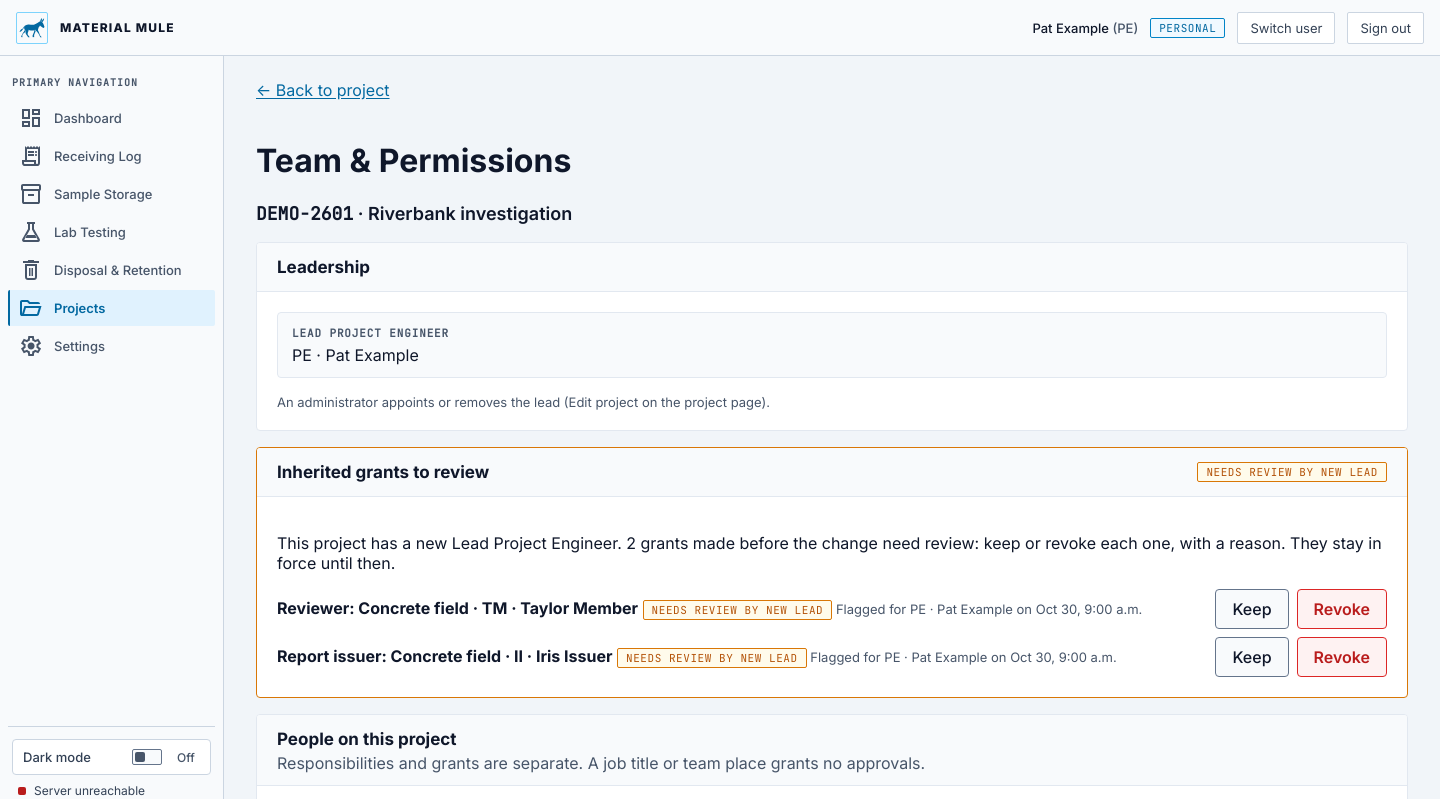
Scenario: Team & Permissions (MM-AO05) › MTR-25: revoking an inherited reviewer or issuer grant updates every list without a reload
The width and height of the screenshot is (1440, 799).
Step 1. Click the button with aria-label "Revoke Reviewer: Concrete field · TM · Taylor Member" → (1342, 609), box x1=1296 y1=589 x2=1387 y2=629
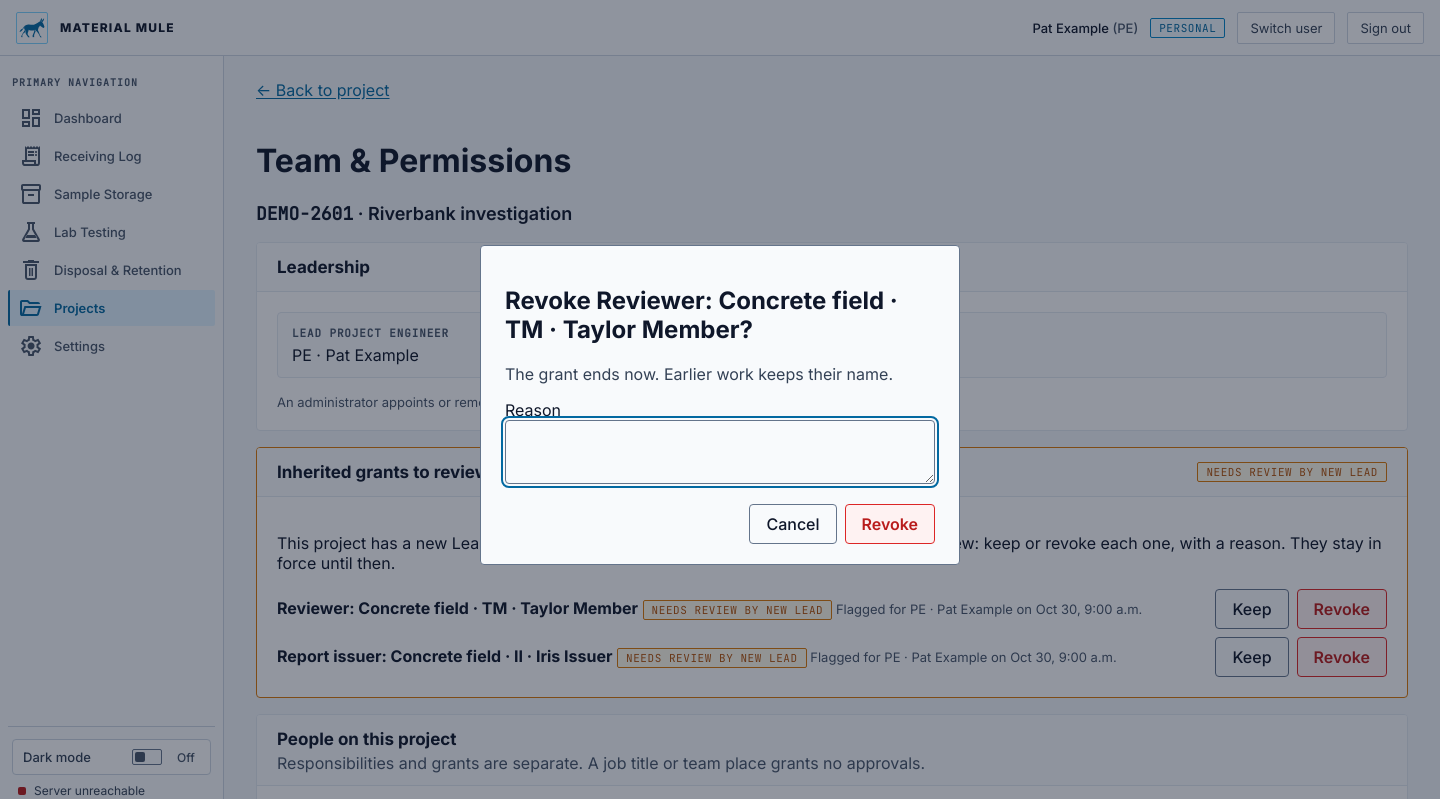
Step 2. Type "No longer needed" into the text box labelled "Reason" → (720, 452), box x1=505 y1=420 x2=935 y2=484
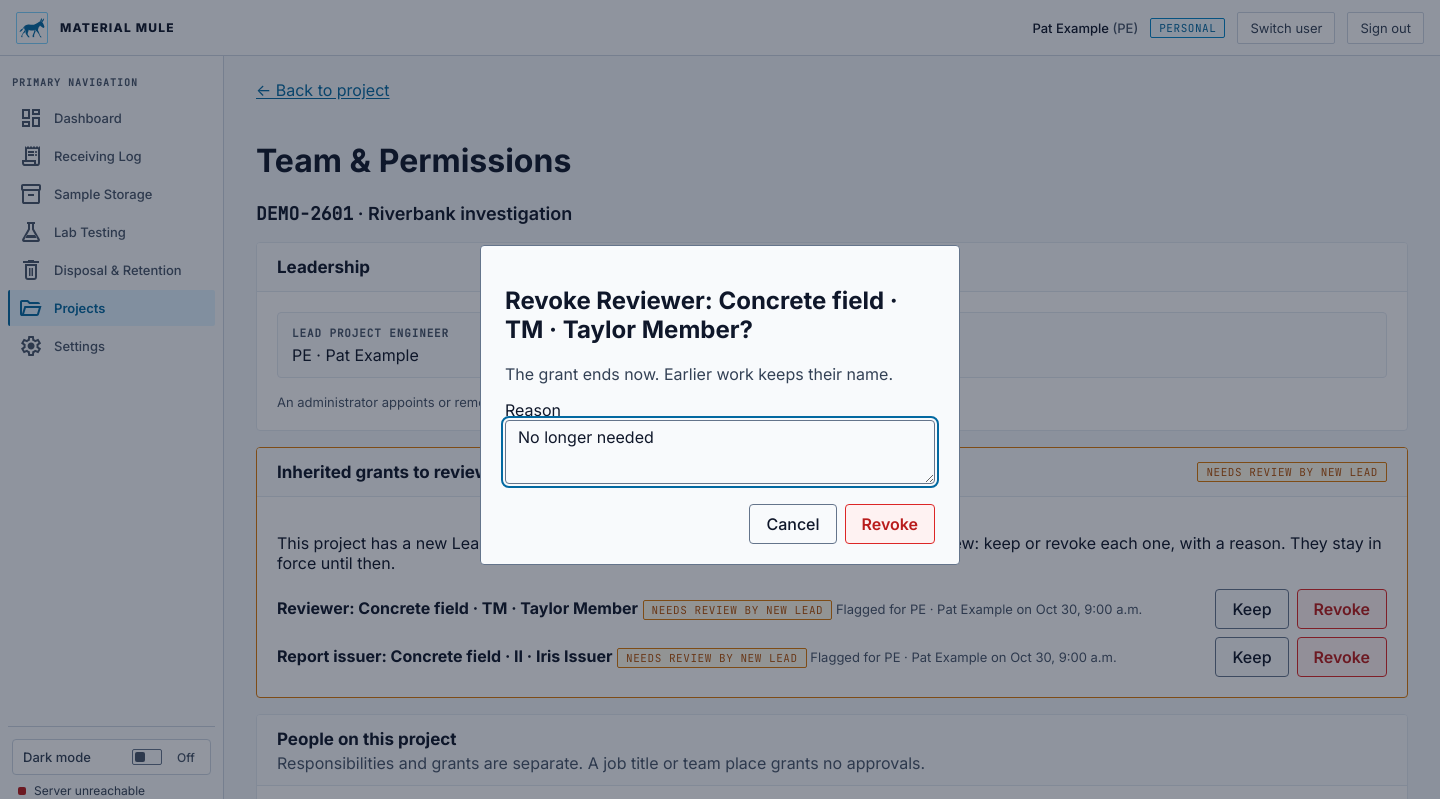
Step 3. Click the button "Revoke" → (890, 524), box x1=844 y1=504 x2=935 y2=544
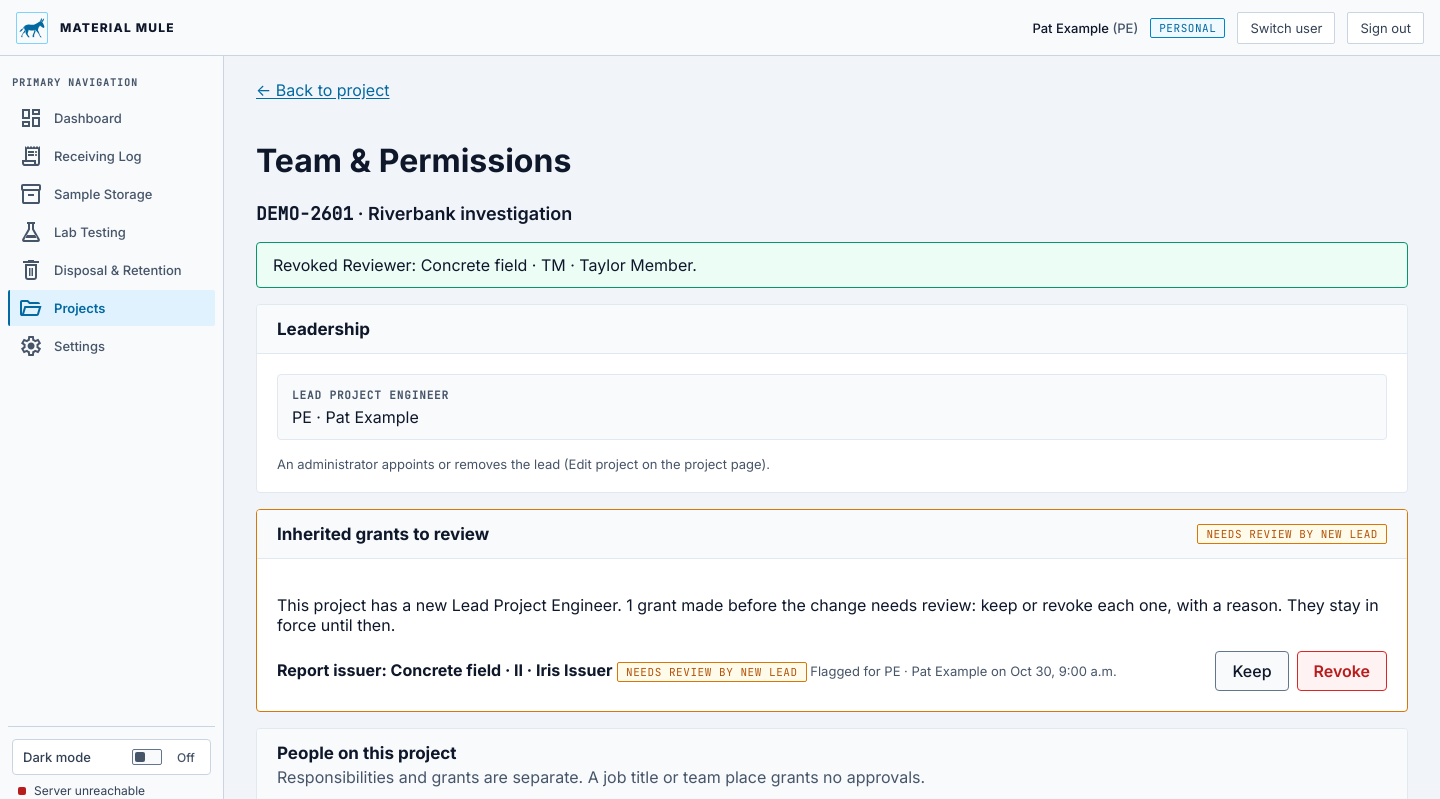
Expected: the text "Revoked Reviewer: Concrete field · TM · Taylor Member." is shown, x1=256 y1=242 x2=1408 y2=288
Step 4. Click the button with aria-label "Revoke Report issuer: Concrete field · II · Iris Issuer" → (1342, 671), box x1=1296 y1=651 x2=1387 y2=691
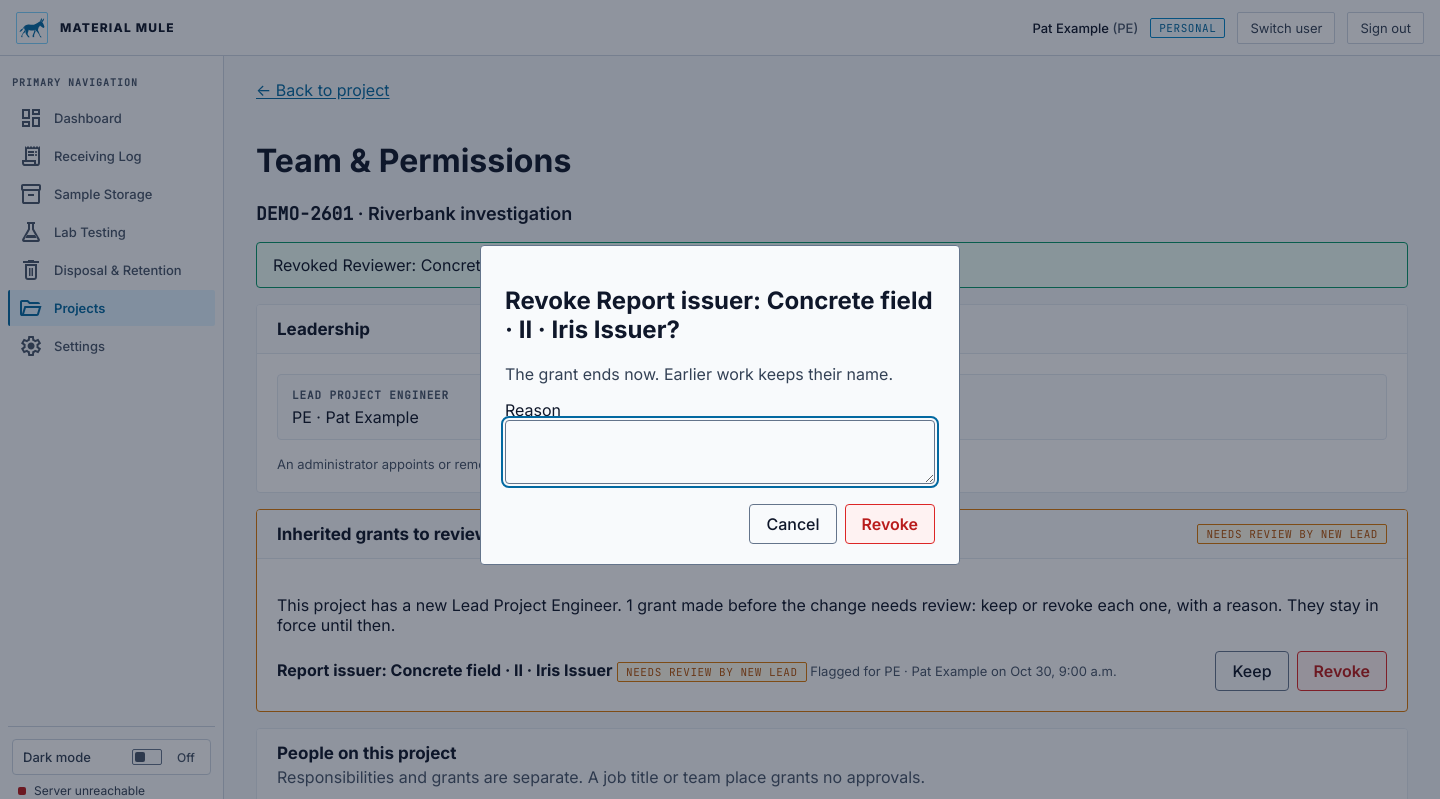
Step 5. Type "No longer needed" into the text box labelled "Reason" → (720, 452), box x1=505 y1=420 x2=935 y2=484
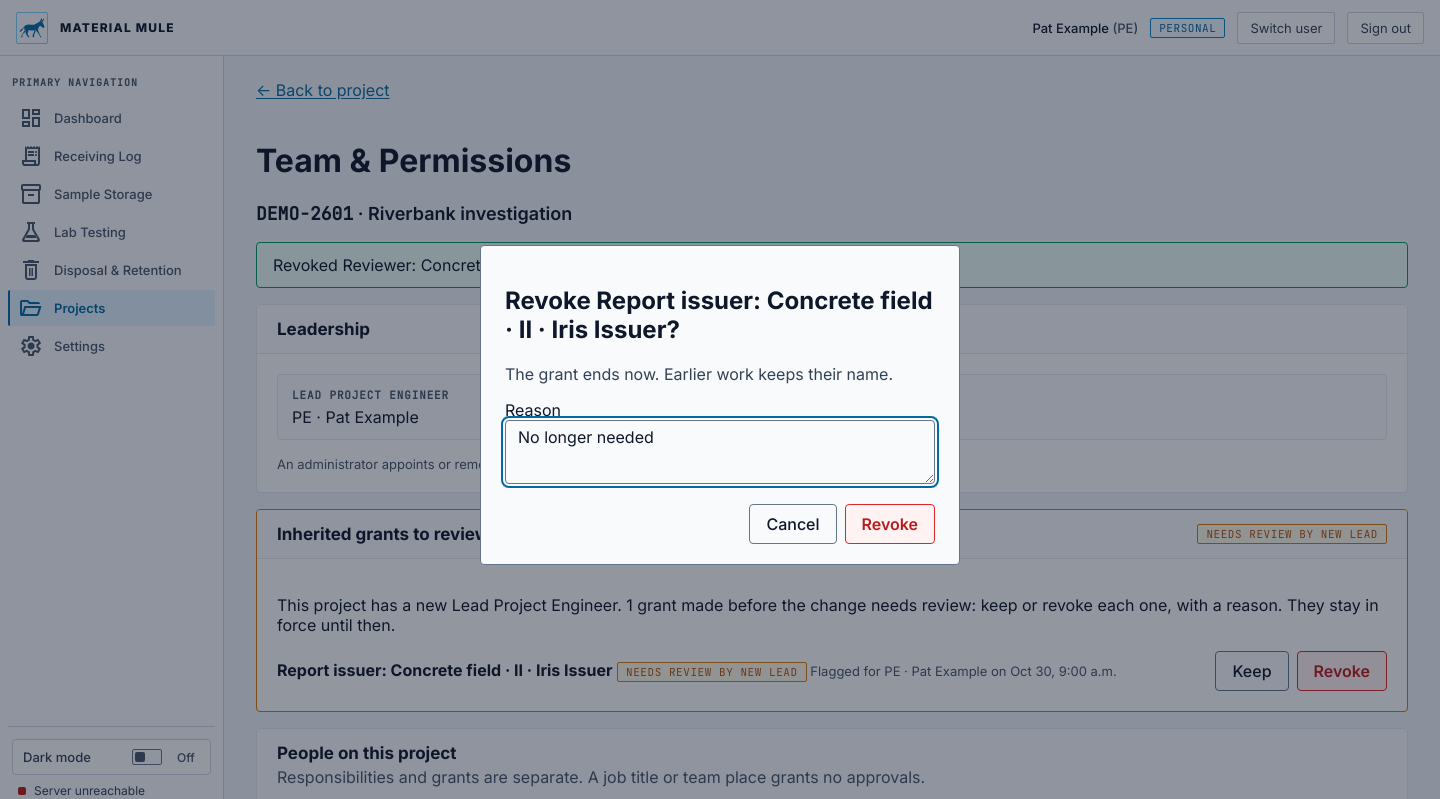
Step 6. Click the button "Revoke" → (890, 524), box x1=844 y1=504 x2=935 y2=544
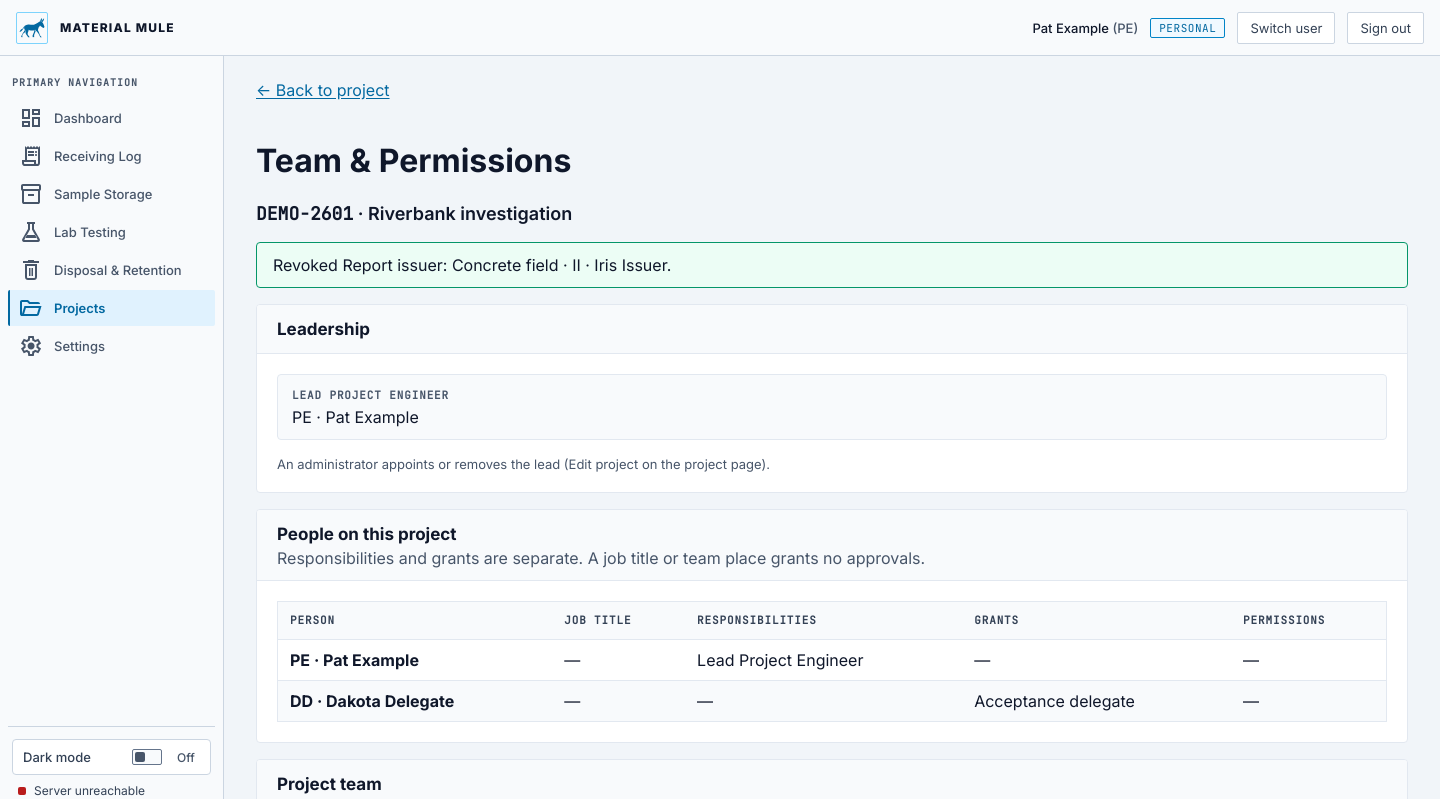
Expected: the heading "Inherited grants to review" is gone
Expected: the text "Revoked Report issuer: Concrete field · II · Iris Issuer." is shown, x1=256 y1=242 x2=1408 y2=288
